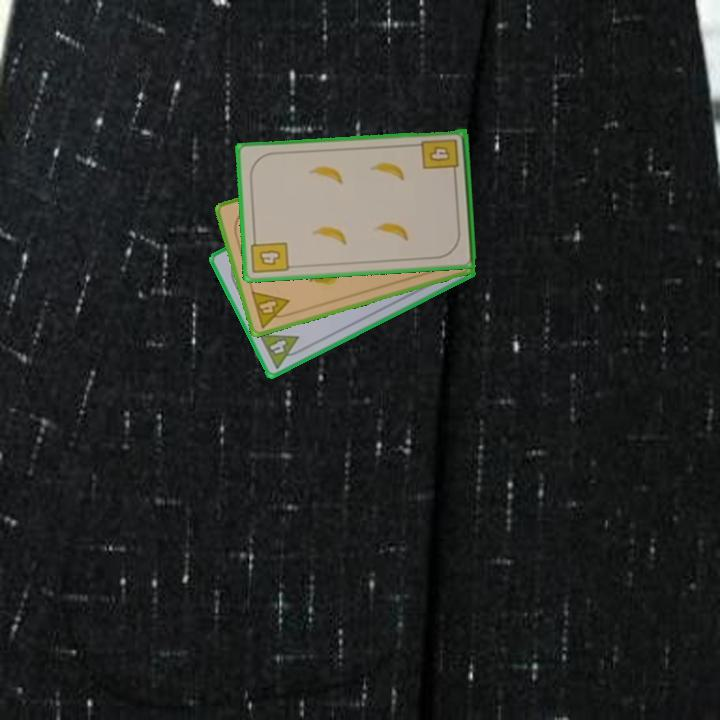4b: (418, 135, 462, 179), (248, 233, 291, 277)
4p: (247, 287, 296, 331), (255, 330, 307, 371)
